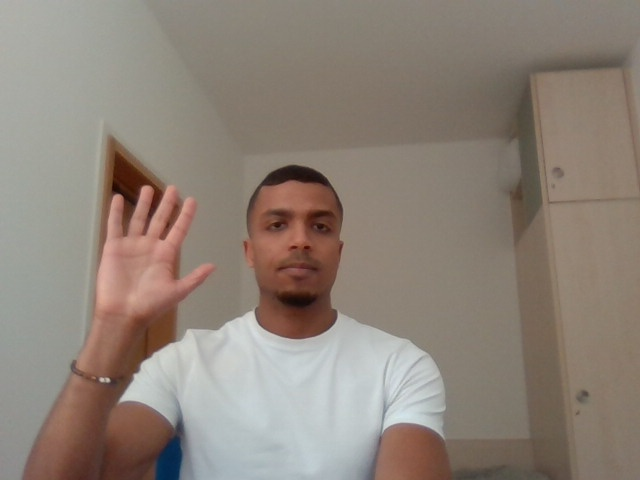hello: (88, 167, 230, 339)
